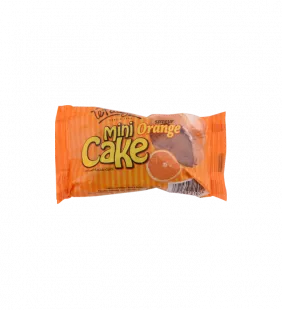LE PATISSIER: (44, 100, 236, 212)
